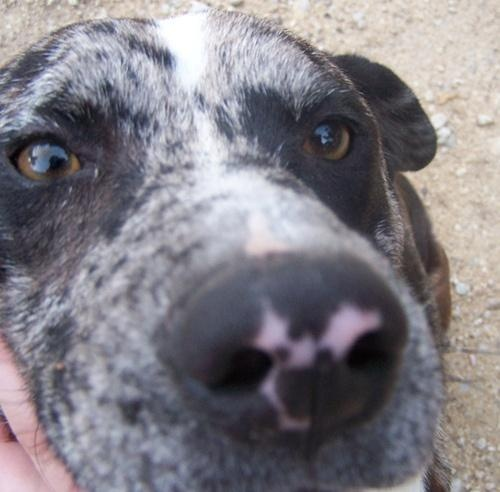dog: (3, 14, 451, 491)
